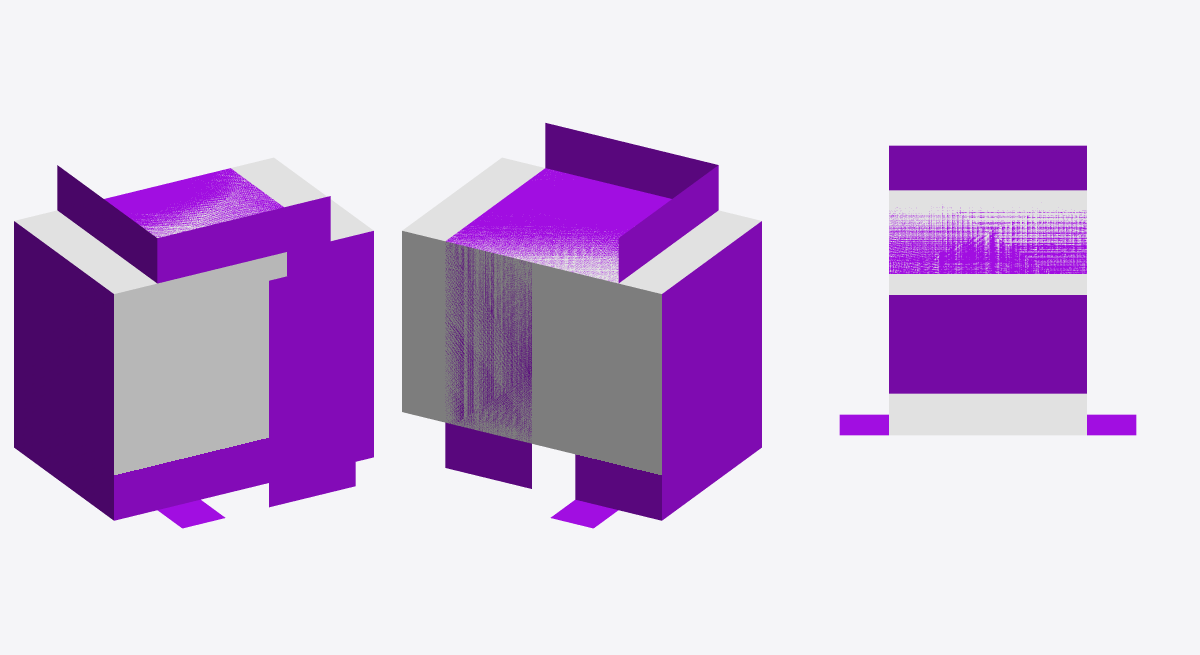
The model's file is gruetz_bunker_buster.obj.
3 views of the same model, side by side, from view 1: azimuth 30°, elevation 25°; view 2: azimuth 150°, elevation 25°; view 3: azimuth 270°, elevation 25° (orthographic).
Parts seen in each view (by area): view 1: cube4, cube5, cube7; view 2: cube4, cube7, cube6; view 3: cube4, cube7, cube5, cube6.
Boxes of the visible parts, x1,y1,x2,y2 form: cube4: (14,157,373,520); cube5: (157,259,355,528); cube7: (57,165,330,283); cube4: (402,157,761,520); cube7: (446,123,718,283); cube6: (445,241,618,528); cube4: (889,190,1086,435); cube7: (889,145,1086,273); cube5: (839,414,888,435); cube6: (1087,414,1136,435).
Size of the model in its own units: 2 by 3 by 2.
